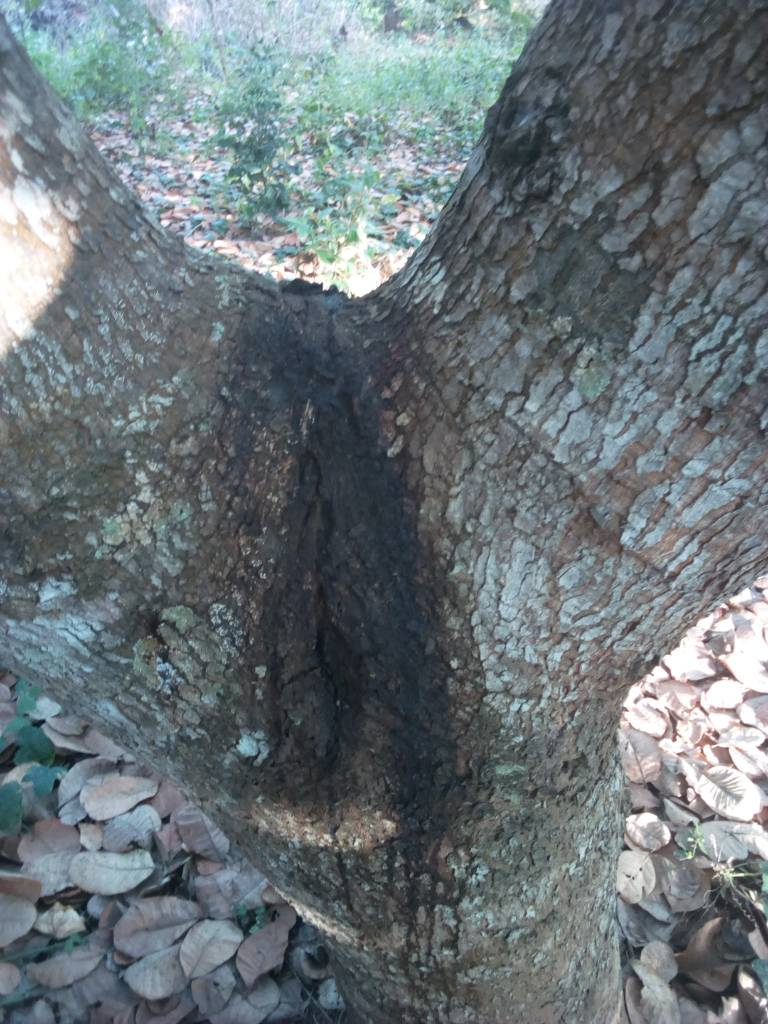Gommose: (250, 322, 461, 944)
